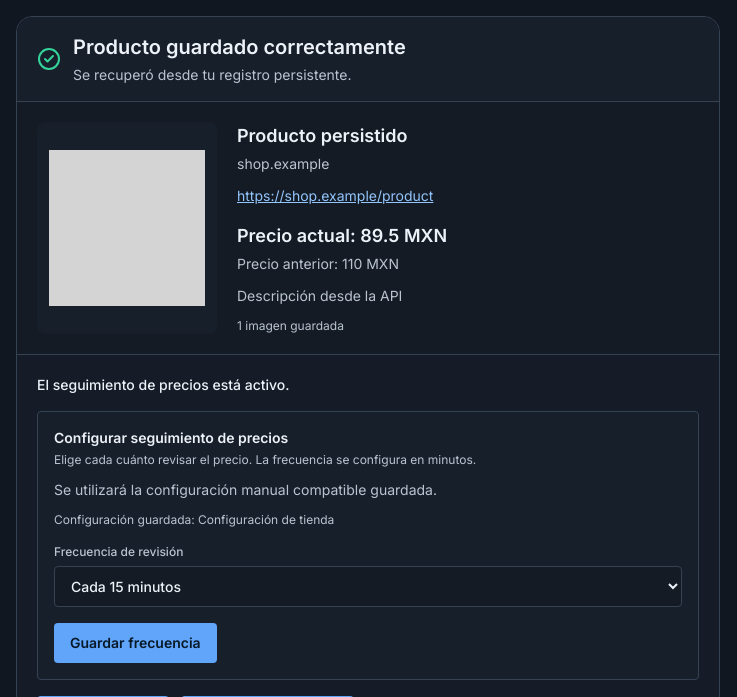
Test: ProductSavedPage › updates an existing product/config monitor instead of creating a duplicate
Select "Cada 30 minutos" in the dropdown named "Frecuencia de revisión": x=368, y=586 [54,566,682,607]
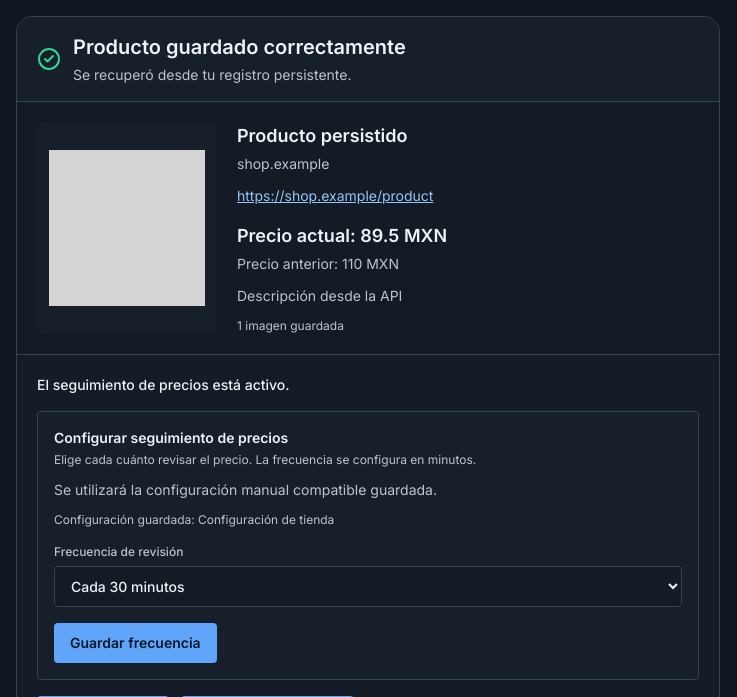
Click the button "Guardar frecuencia": x=135, y=643 [54,623,217,663]
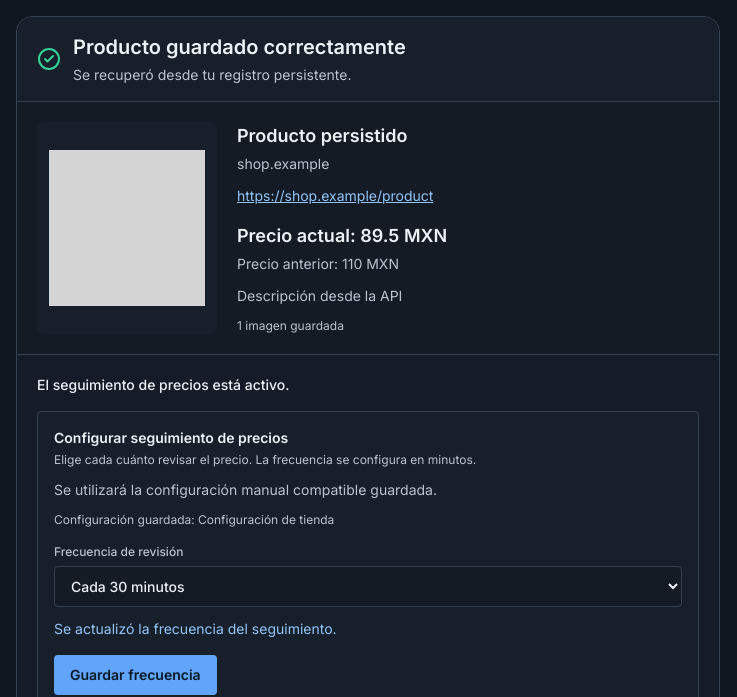
Now the text "Se actualizó la frecuencia del seguimiento." is shown, box [54,620,337,637]
